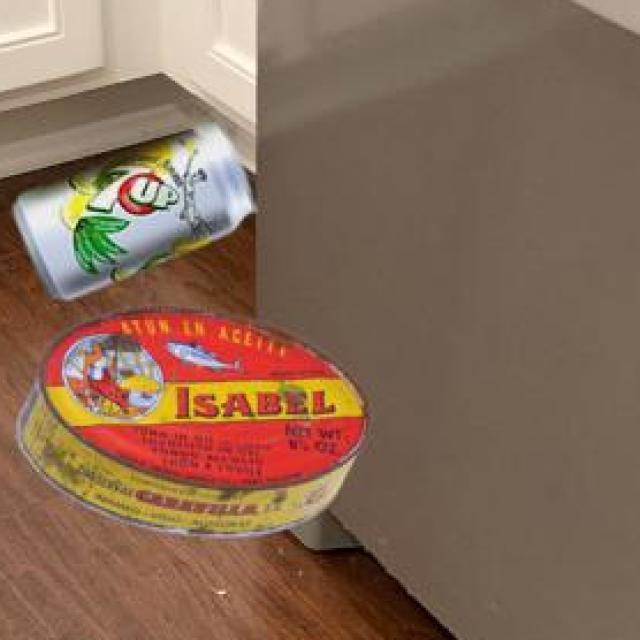logam: (13, 303, 365, 533), (10, 123, 252, 296)
